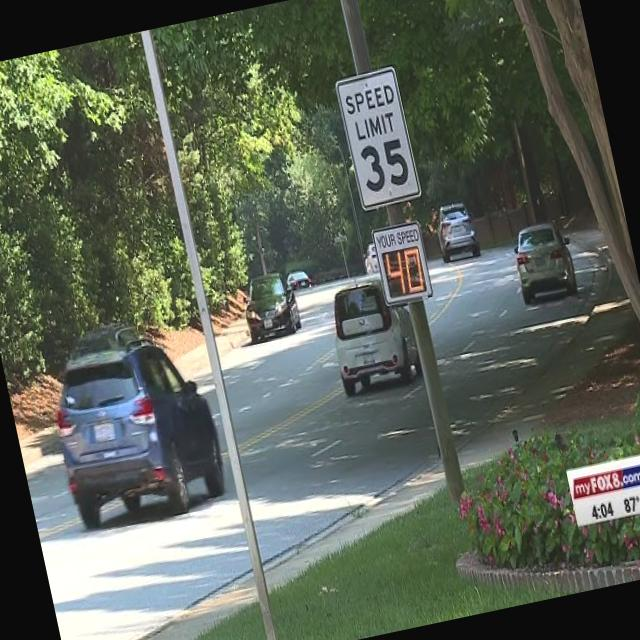Speed Limit Signs: (327, 54, 430, 217)
